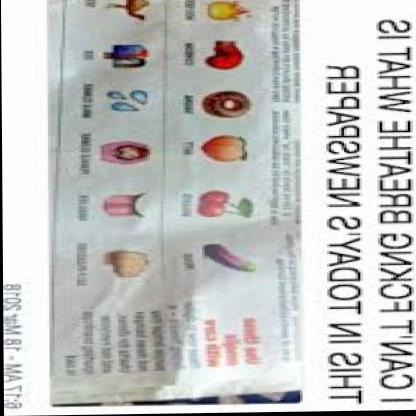Paper: (54, 0, 298, 403)
